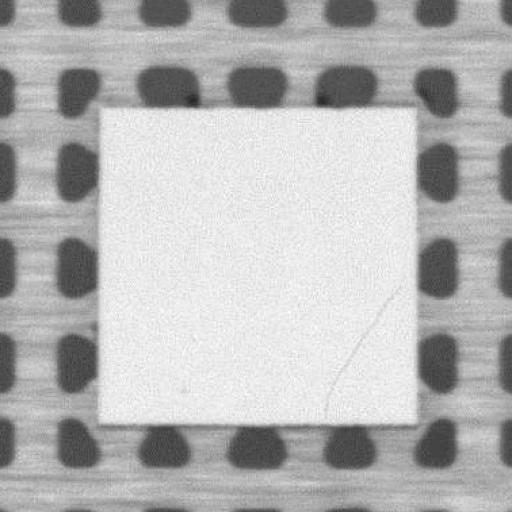DIE_CRACK: (321, 285, 400, 417)
